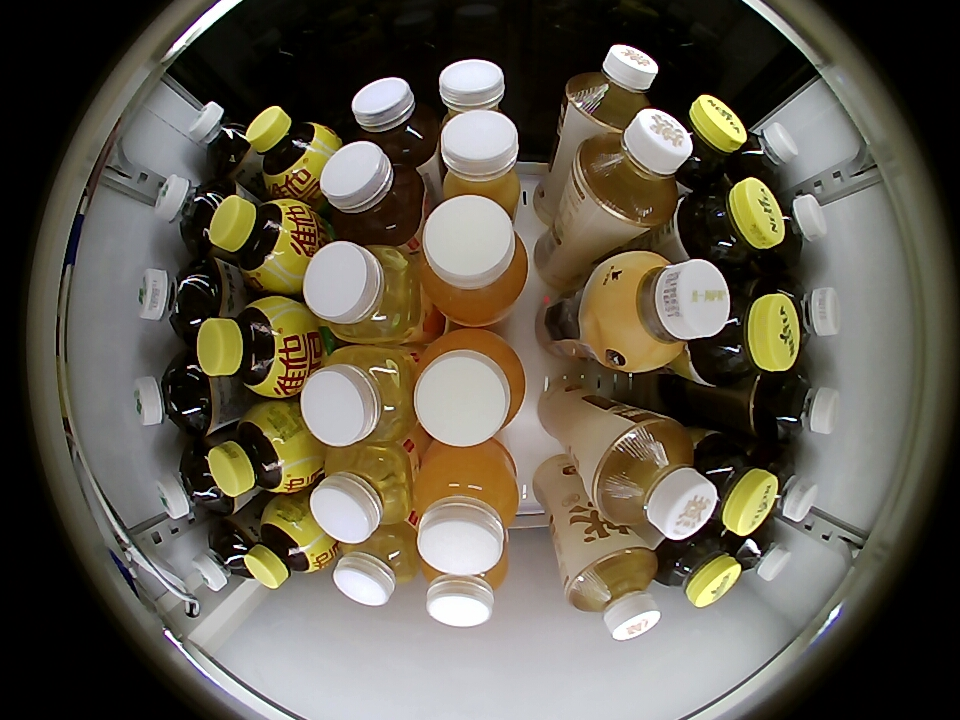asamu: (598, 251, 731, 371)
chacui: (691, 283, 799, 388), (677, 178, 785, 268), (691, 435, 778, 536), (670, 94, 745, 187), (654, 529, 741, 608)
chapai: (321, 142, 427, 246), (350, 78, 440, 166)
chapai2: (304, 240, 424, 343), (302, 345, 416, 448), (311, 443, 415, 544), (333, 523, 420, 606)
damaicha: (137, 257, 222, 342), (155, 175, 239, 254), (132, 354, 212, 435), (156, 444, 232, 520), (192, 519, 257, 591), (189, 101, 253, 174)
nfc: (438, 109, 523, 217), (438, 59, 509, 120)
rancha-2: (590, 415, 717, 541), (572, 108, 692, 229), (563, 540, 661, 642), (565, 43, 658, 133)
weic: (412, 442, 520, 577), (418, 195, 530, 325), (412, 330, 527, 447), (420, 550, 508, 627)
weitaningmeng-bottle: (197, 297, 304, 397), (207, 194, 314, 291), (207, 403, 309, 499), (246, 105, 336, 197), (245, 498, 331, 589)
wulongcha: (768, 367, 840, 440), (768, 279, 841, 348), (763, 193, 826, 266), (757, 451, 817, 523), (734, 122, 798, 187), (729, 522, 791, 582)
